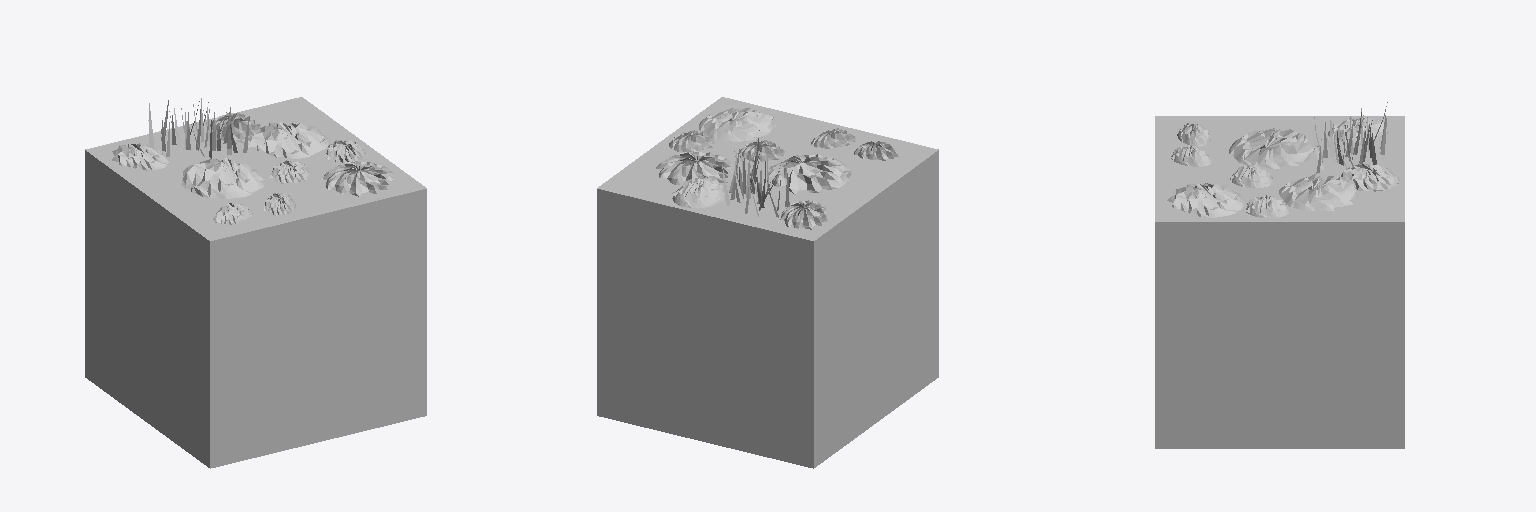
File: Kamienna droga.obj
3 views of the same model, side by side, from view 1: azimuth 30°, elevation 25°; view 2: azimuth 150°, elevation 25°; view 3: azimuth 270°, elevation 25° (orthographic).
Visible parts, largest first — view 1: Cube, Sphere.003, Sphere, Plane, Sphere.005, Sphere.001, Sphere.004, Sphere.007, Sphere.008, Sphere.002, Sphere.006; view 2: Cube, Sphere.003, Sphere.005, Sphere, Plane, Sphere.004, Sphere.001, Sphere.008, Sphere.007, Sphere.006, Sphere.002; view 3: Cube, Sphere.003, Sphere, Sphere.005, Plane, Sphere.004, Sphere.008, Sphere.001, Sphere.007, Sphere.006, Sphere.002.
Part boxes in pixels (left/top/right/bottom): Cube: left=85, top=97, right=426, bottom=468; Sphere.003: left=181, top=158, right=264, bottom=198; Sphere: left=248, top=122, right=328, bottom=158; Plane: left=148, top=98, right=248, bottom=158; Sphere.005: left=322, top=161, right=393, bottom=196; Sphere.001: left=109, top=143, right=168, bottom=170; Sphere.004: left=210, top=113, right=260, bottom=143; Sphere.007: left=269, top=160, right=310, bottom=183; Sphere.008: left=326, top=140, right=365, bottom=163; Sphere.002: left=213, top=203, right=252, bottom=224; Sphere.006: left=264, top=193, right=295, bottom=215; Cube: left=597, top=97, right=938, bottom=468; Sphere.003: left=766, top=154, right=851, bottom=194; Sphere.005: left=699, top=108, right=775, bottom=141; Sphere: left=656, top=151, right=733, bottom=184; Plane: left=722, top=130, right=789, bottom=217; Sphere.004: left=671, top=177, right=724, bottom=207; Sphere.001: left=780, top=200, right=827, bottom=229; Sphere.008: left=669, top=130, right=714, bottom=151; Sphere.007: left=738, top=140, right=784, bottom=161; Sphere.006: left=811, top=128, right=855, bottom=148; Sphere.002: left=854, top=141, right=898, bottom=160; Cube: left=1155, top=116, right=1404, bottom=448; Sphere.003: left=1229, top=128, right=1318, bottom=168; Sphere: left=1279, top=174, right=1358, bottom=210; Sphere.005: left=1167, top=183, right=1244, bottom=217; Plane: left=1311, top=102, right=1387, bottom=173; Sphere.004: left=1340, top=163, right=1399, bottom=191; Sphere.008: left=1246, top=195, right=1289, bottom=217; Sphere.001: left=1328, top=117, right=1388, bottom=141; Sphere.007: left=1230, top=166, right=1272, bottom=188; Sphere.006: left=1171, top=146, right=1211, bottom=166; Sphere.002: left=1177, top=123, right=1210, bottom=146.
Size of the model in its own units: 2 by 2.47 by 2.